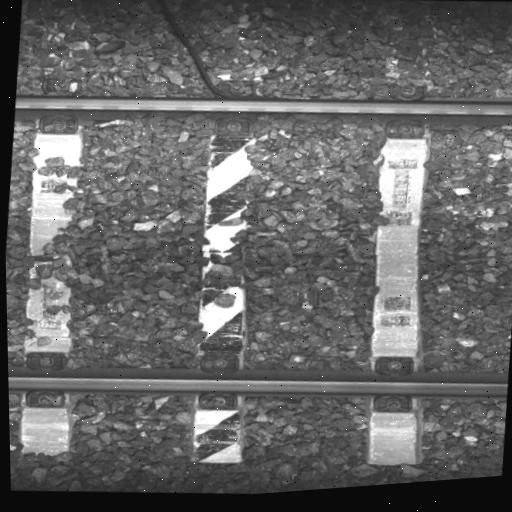sleeper: (176, 25, 287, 470), (5, 22, 116, 466), (354, 28, 460, 472)
